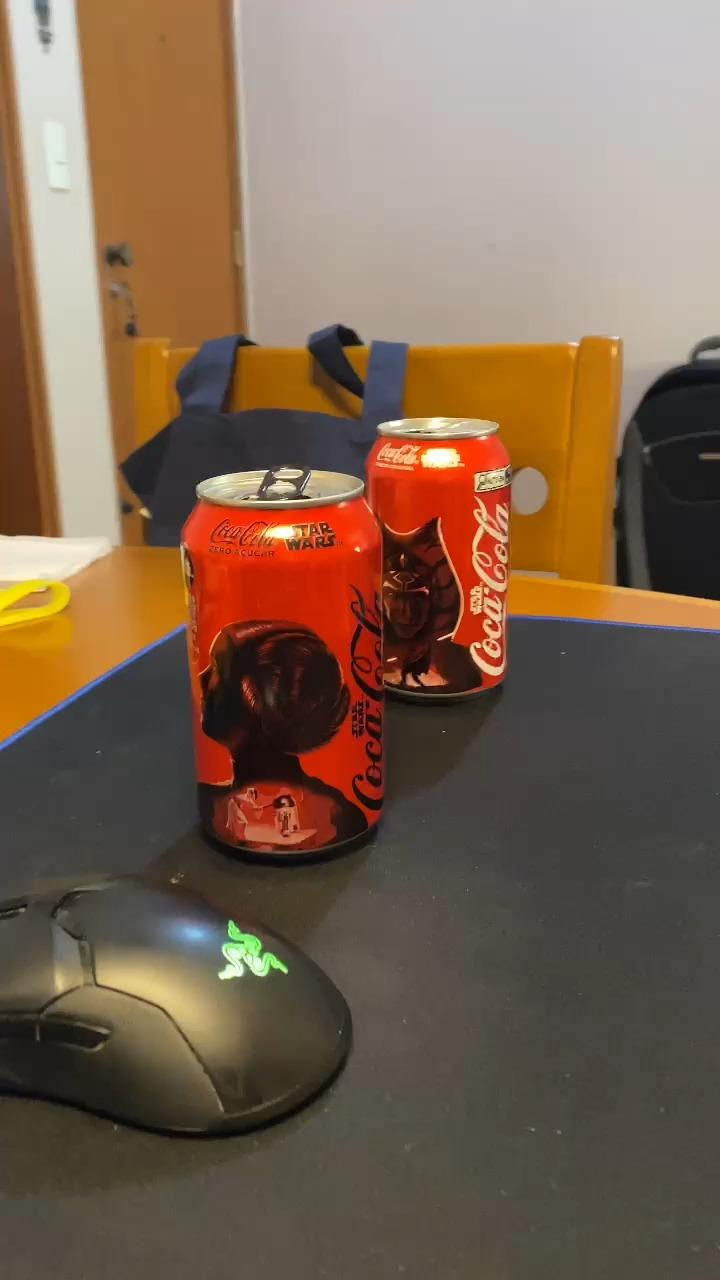coke: (178, 467, 385, 849), (365, 419, 512, 704)
